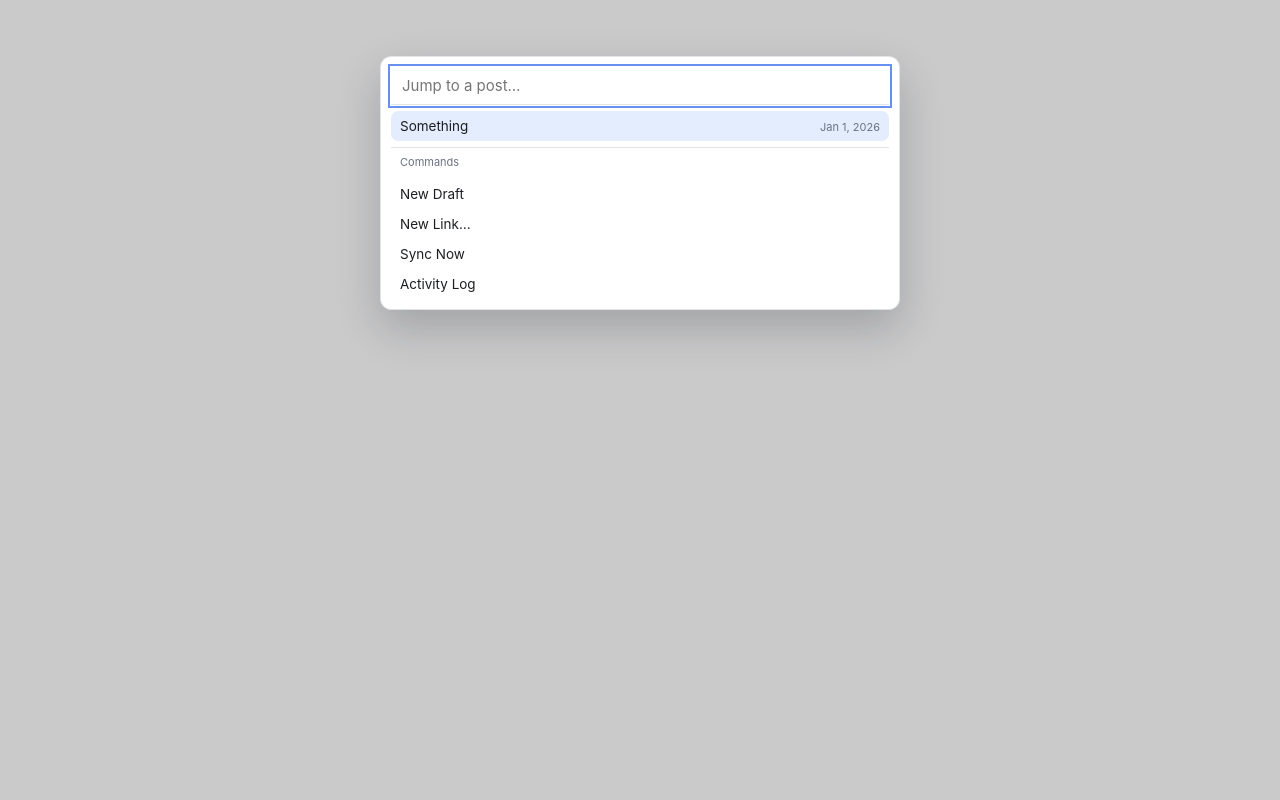
shows an empty-state message when the query matches nothing
Type "zzzzz" into the field labelled "Jump to a post".
click(640, 86); type("zzzzz")  # box left=391, top=67, right=889, bottom=105
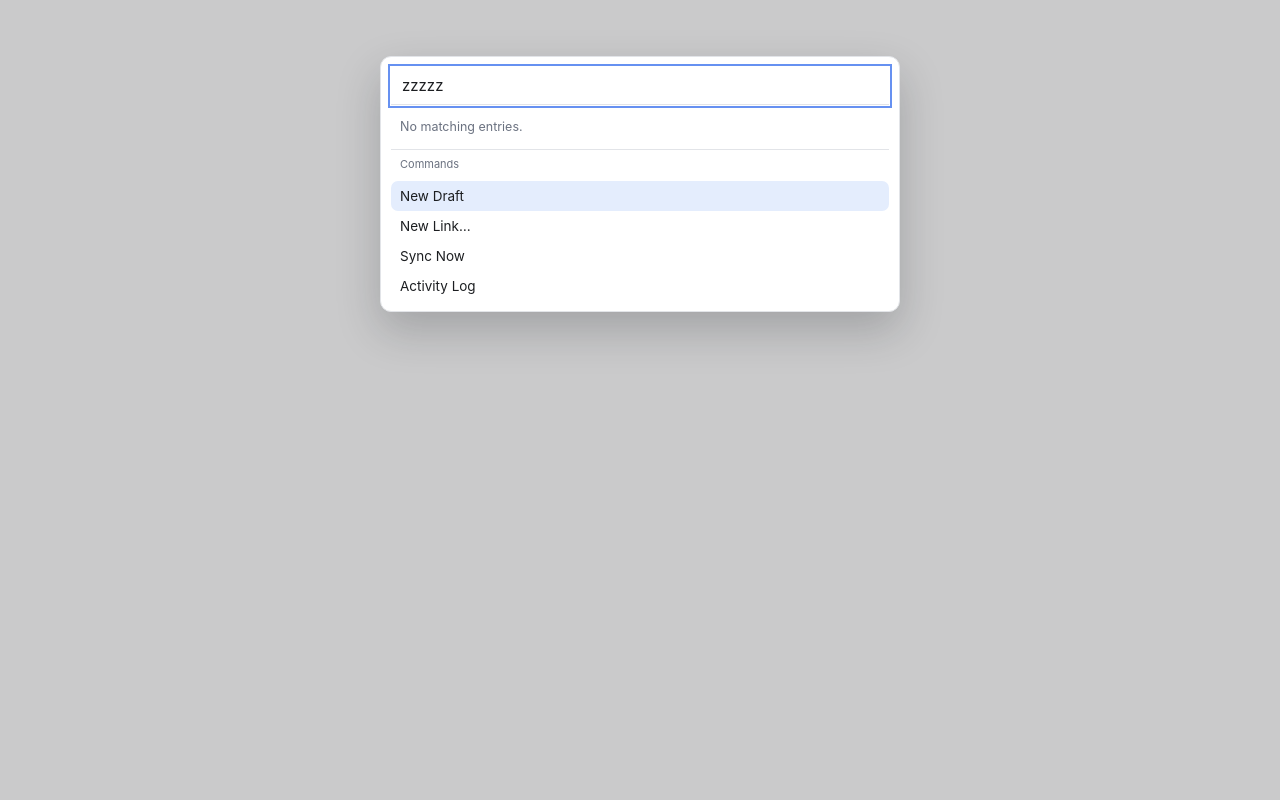
Now the text "No matching entries." is shown, box left=400, top=119, right=523, bottom=134
